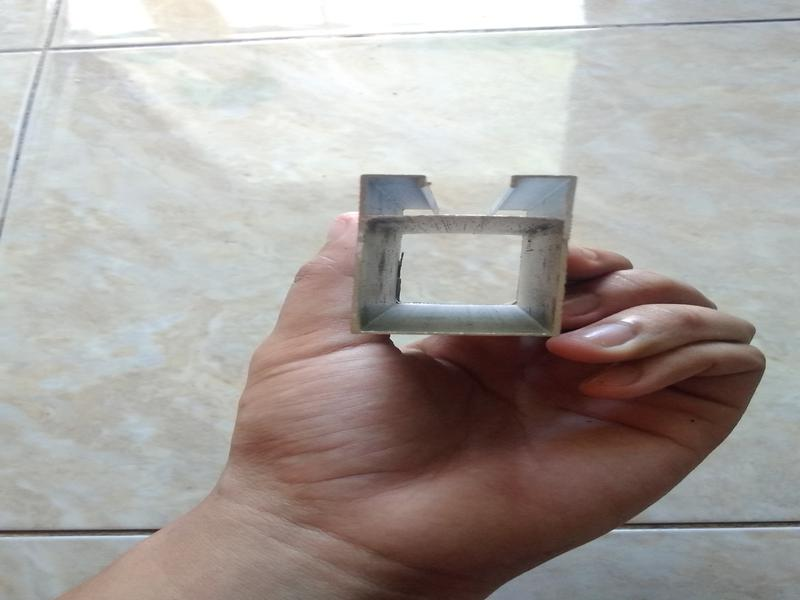Aluminium_1: (345, 146, 582, 351)
